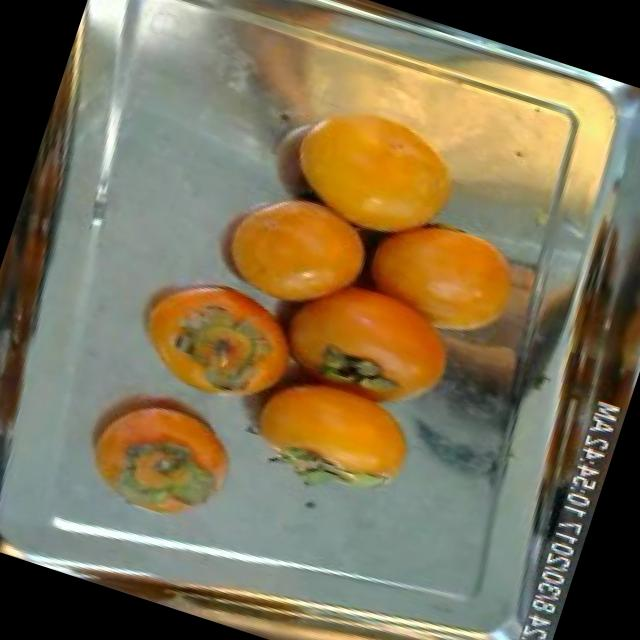Fruit: (105, 248, 324, 428), (58, 358, 267, 546), (190, 156, 404, 336), (224, 339, 443, 514)
